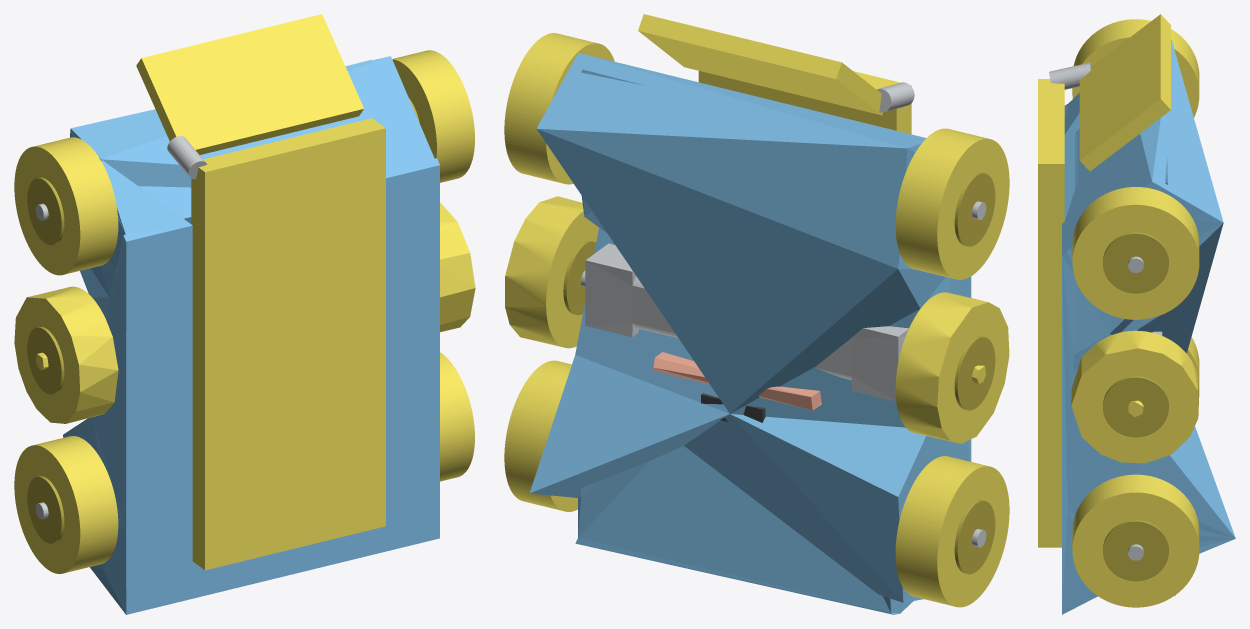
The model's file is the_golden_nuggets.glb.
3 views of the same model, side by side, from view 1: azimuth 30°, elevation 25°; view 2: azimuth 150°, elevation 25°; view 3: azimuth 270°, elevation 25° (orthographic). The views are drawn at different scales.
Parts seen in each view (by area): view 1: lifter, chassis, lifter_nose, wheel_r1, wheel_r2, wheel_r0, wheel_l2, wheel_l0, wheel_l1, dt_hub_wheel_r0, dt_hub_wheel_r1, dt_hub_wheel_r2 (+1 smaller); view 2: chassis, wheel_r1, wheel_r2, wheel_r0, lifter_nose, wheel_l1, wheel_l2, wheel_l0, dm_wheel_l1, dm_wheel_r1, lifter, dt_hub_wheel_r1 (+5 smaller); view 3: chassis, lifter, wheel_l1, wheel_l0, wheel_l2, lifter_nose, dt_hub_wheel_l1, dt_hub_wheel_l0, dt_hub_wheel_l2, wheel_r2, dt_strut_lifter_nose.
Part boxes in pixels (bbox=[...]): lifter: bbox=[191, 118, 385, 570]; chassis: bbox=[63, 56, 439, 614]; lifter_nose: bbox=[136, 14, 363, 154]; wheel_r1: bbox=[14, 286, 118, 423]; wheel_r2: bbox=[14, 137, 118, 275]; wheel_r0: bbox=[14, 436, 118, 573]; wheel_l2: bbox=[392, 50, 474, 182]; wheel_l0: bbox=[440, 352, 474, 481]; wheel_l1: bbox=[440, 203, 475, 332]; dt_hub_wheel_r0: bbox=[27, 476, 64, 543]; dt_hub_wheel_r1: bbox=[27, 327, 64, 394]; dt_hub_wheel_r2: bbox=[27, 177, 64, 244]; chassis: bbox=[529, 53, 971, 614]; wheel_r1: bbox=[895, 292, 1009, 443]; wheel_r2: bbox=[895, 128, 1009, 279]; wheel_r0: bbox=[895, 456, 1009, 607]; lifter_nose: bbox=[638, 14, 882, 115]; wheel_l1: bbox=[505, 196, 598, 348]; wheel_l2: bbox=[504, 33, 614, 184]; wheel_l0: bbox=[504, 360, 577, 511]; dm_wheel_l1: bbox=[581, 243, 677, 337]; dm_wheel_r1: bbox=[815, 326, 908, 401]; lifter: bbox=[698, 71, 911, 134]; dt_hub_wheel_r1: bbox=[954, 336, 995, 410]; chassis: bbox=[1062, 39, 1235, 614]; lifter: bbox=[1038, 79, 1064, 547]; wheel_l1: bbox=[1071, 330, 1199, 463]; wheel_l0: bbox=[1072, 474, 1199, 607]; wheel_l2: bbox=[1072, 187, 1199, 319]; lifter_nose: bbox=[1079, 14, 1170, 171]; dt_hub_wheel_l1: bbox=[1103, 376, 1168, 437]; dt_hub_wheel_l0: bbox=[1103, 520, 1168, 581]; dt_hub_wheel_l2: bbox=[1103, 232, 1168, 293]; wheel_r2: bbox=[1072, 19, 1199, 117]; dt_strut_lifter_nose: bbox=[1049, 62, 1091, 89].
Bounding box in the file's own units: 86.2 × 101 × 37.39.
